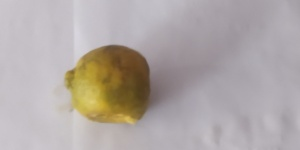BAD: (61, 45, 151, 125)
